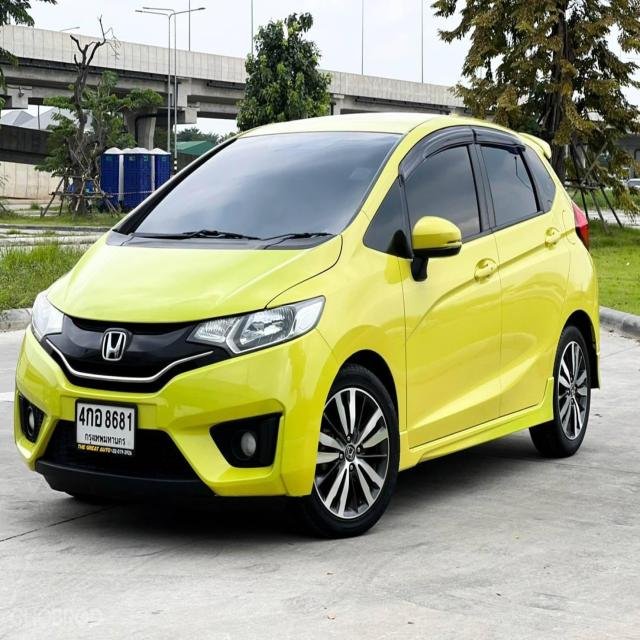license_plate: (75, 395, 140, 459)
